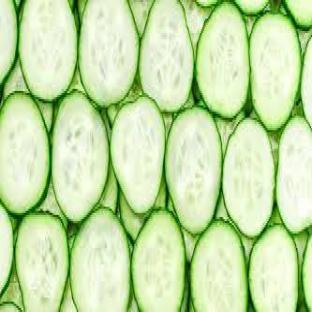Cucumber: (52, 91, 108, 223), (165, 106, 222, 233), (196, 3, 250, 117), (71, 209, 131, 311), (223, 118, 274, 237), (0, 93, 50, 214), (111, 98, 164, 212), (251, 13, 300, 130), (132, 209, 185, 311), (15, 213, 69, 311), (191, 222, 248, 311), (250, 226, 297, 311), (277, 116, 311, 233), (107, 75, 142, 126), (38, 182, 68, 229), (119, 193, 148, 241), (215, 112, 245, 154), (0, 263, 23, 309), (3, 60, 29, 99), (294, 232, 308, 303), (100, 164, 118, 212), (301, 40, 311, 126), (302, 236, 311, 309), (182, 228, 199, 264), (215, 193, 234, 225), (60, 277, 76, 311), (215, 193, 230, 221), (155, 174, 167, 208), (69, 67, 85, 92), (298, 29, 311, 55), (163, 114, 173, 140), (0, 302, 21, 311)
